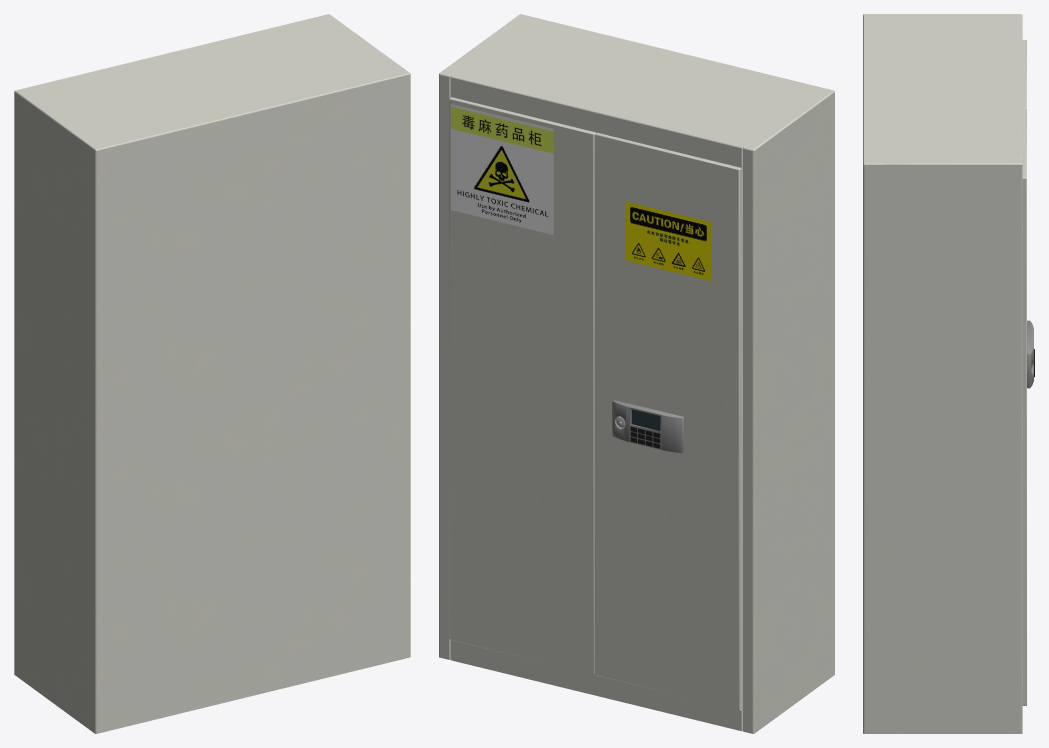
File: SM_药品室_剧毒柜.fbx
3 views of the same model, side by side, from view 1: azimuth 30°, elevation 25°; view 2: azimuth 150°, elevation 25°; view 3: azimuth 270°, elevation 25° (orthographic). The views are drawn at different scales.
Parts seen in each view (by area): view 1: SM_药品室_剧毒柜; view 2: SM_药品室_剧毒柜; view 3: SM_药品室_剧毒柜.
Part boxes in pixels (x1,y1,x2,y2): SM_药品室_剧毒柜: (14, 14, 410, 733); SM_药品室_剧毒柜: (439, 14, 834, 733); SM_药品室_剧毒柜: (863, 14, 1034, 733).
Size of the model in its own units: 1300 by 2300 by 628.
